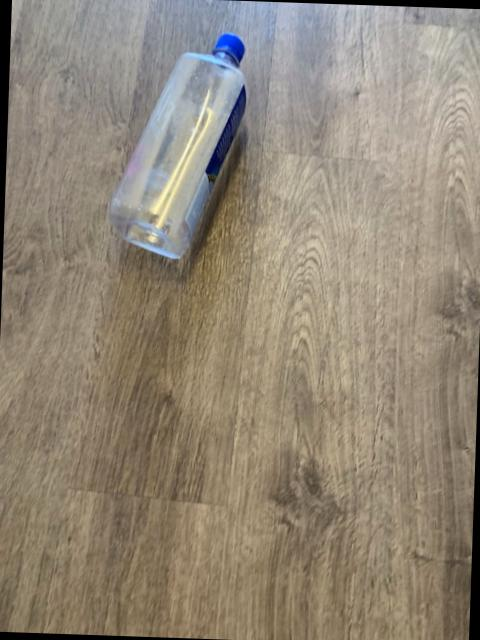plastic: (107, 31, 243, 256)
